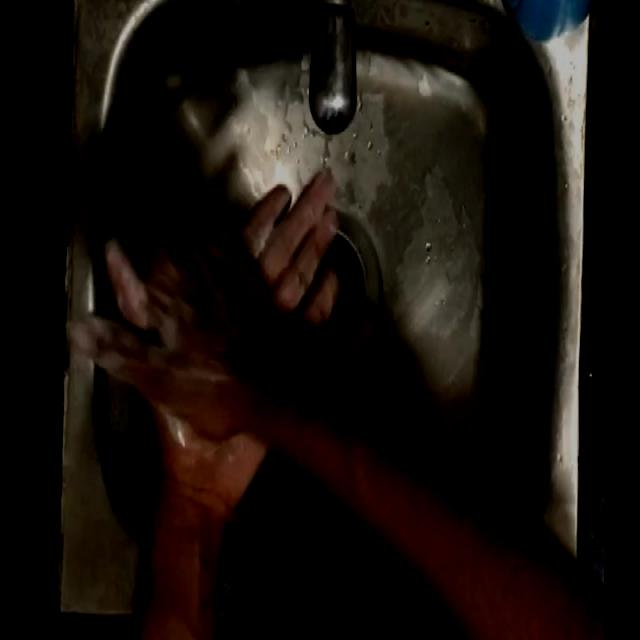step_5: (78, 158, 350, 490)
